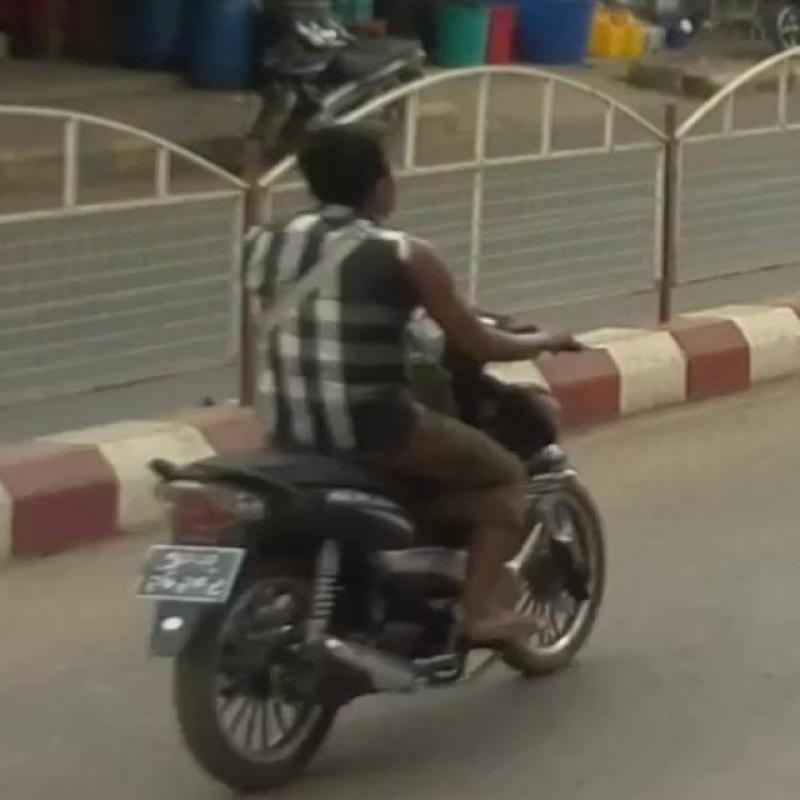nohelmet: (286, 107, 440, 237)
